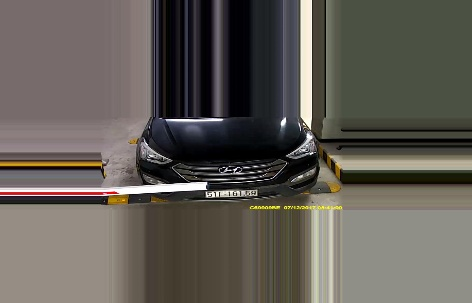plate: (204, 189, 258, 198)
